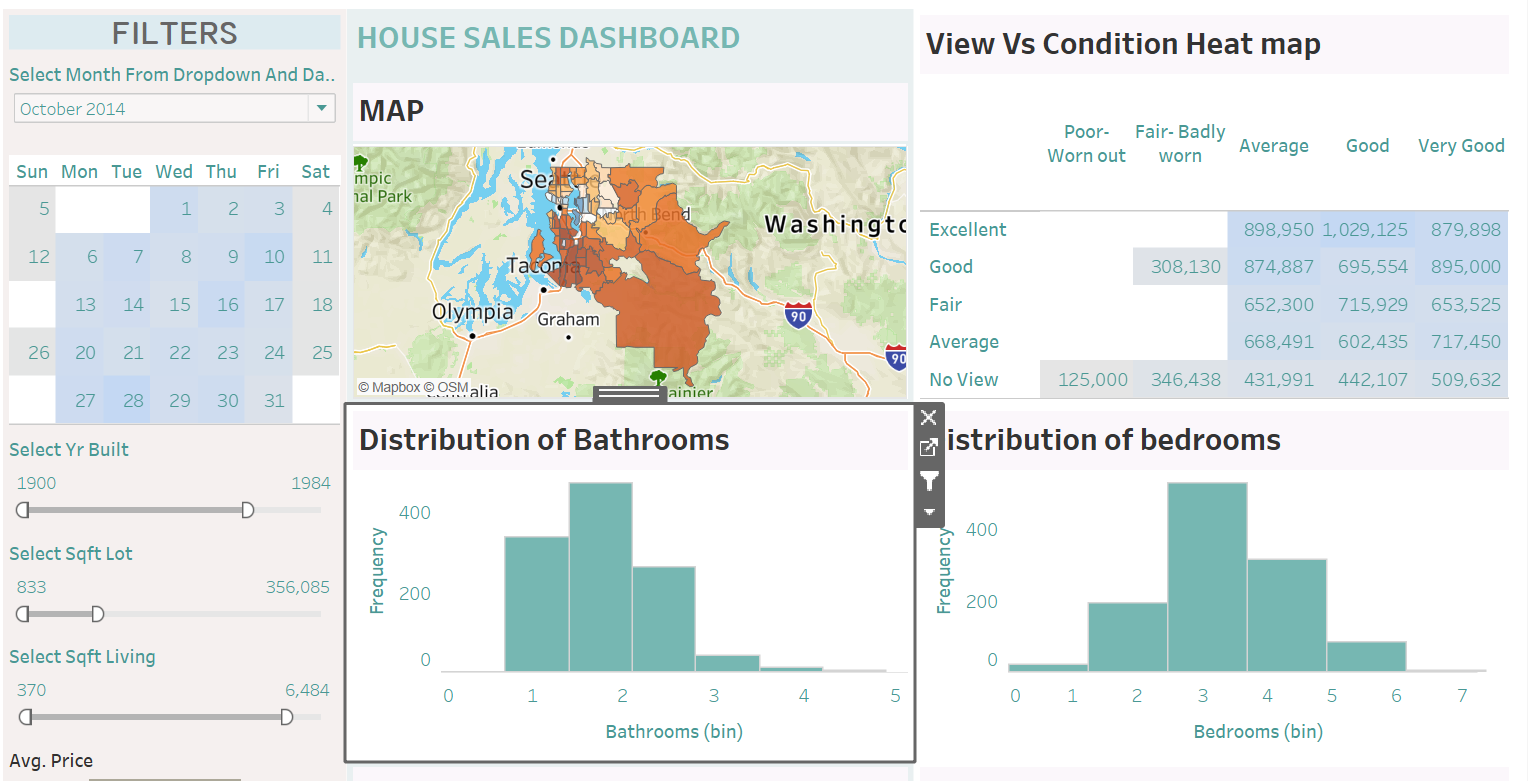

Layout of this report page (visuals, bound fields, positions):
{"tool":"tableau","page":{"name":"HOUSE SALES","canvas":[1024,768],"ordinal":0},"visuals":[{"type":"text","box":[8,8,229,31]},{"type":"text","box":[237,8,378,35]},{"type":"worksheet","title":"Heat Map","mark":"Square","rows":["view"],"cols":["condition"],"box":[615,8,401,264]},{"type":"filter","title":"Calendar","param":"[federated.039u9g70wbjfme1bphpur0a3e9mg].[my:date:ok]","box":[8,39,229,52]},{"type":"blank","box":[237,43,378,10]},{"type":"worksheet","title":"MAP","mark":"Automatic","box":[237,53,378,219]},{"type":"blank","box":[8,91,229,10]},{"type":"worksheet","title":"Calendar","mark":"Square","rows":["date"],"cols":["date"],"box":[8,101,229,188]},{"type":"worksheet","title":"Distribution of bathrooms","mark":"Automatic","rows":["bathrooms"],"cols":["Bathrooms (bin)"],"box":[237,272,378,237.3]},{"type":"worksheet","title":"Distribution of bedrooms","mark":"Automatic","rows":["bedrooms"],"cols":["Bedrooms (bin)"],"box":[615,272,401,237]},{"type":"filter","title":"Calendar","param":"[federated.039u9g70wbjfme1bphpur0a3e9mg].[none:yr_built:qk]","box":[8,289,229,69]},{"type":"filter","title":"Calendar","param":"[federated.039u9g70wbjfme1bphpur0a3e9mg].[none:sqft_lot:qk]","box":[8,358,229,69]},{"type":"filter","title":"Calendar","param":"[federated.039u9g70wbjfme1bphpur0a3e9mg].[none:sqft_living:qk]","box":[8,427,229,69]},{"type":"legend","title":"MAP","param":"[federated.039u9g70wbjfme1bphpur0a3e9mg].[avg:price:qk]","box":[8,496,229,65]},{"type":"worksheet","title":"Histogram House price","mark":"Automatic","rows":["price"],"cols":["Price (bin)"],"box":[615,509,401,251]},{"type":"worksheet","title":"LINE CHART","mark":"Automatic","rows":["price"],"cols":["date"],"box":[237,509.3,378,250.7]}]}

Visuals, with their boxes on the page's 1024x768 design canvas (x1, y1, x2, y2). These are canvas units, not pixel positions in the 1528x781 screenshot, which may show the page scaled, cropped or inside an application window:
text: locate(8, 8, 237, 39)
text: locate(237, 8, 615, 43)
"Heat Map" worksheet (Square marks): locate(615, 8, 1016, 272)
"Calendar" filter: locate(8, 39, 237, 91)
blank: locate(237, 43, 615, 53)
"MAP" worksheet: locate(237, 53, 615, 272)
blank: locate(8, 91, 237, 101)
"Calendar" worksheet (Square marks): locate(8, 101, 237, 289)
"Distribution of bathrooms" worksheet: locate(237, 272, 615, 509)
"Distribution of bedrooms" worksheet: locate(615, 272, 1016, 509)
"Calendar" filter: locate(8, 289, 237, 358)
"Calendar" filter: locate(8, 358, 237, 427)
"Calendar" filter: locate(8, 427, 237, 496)
"MAP" legend: locate(8, 496, 237, 561)
"Histogram House price" worksheet: locate(615, 509, 1016, 760)
"LINE CHART" worksheet: locate(237, 509, 615, 760)
